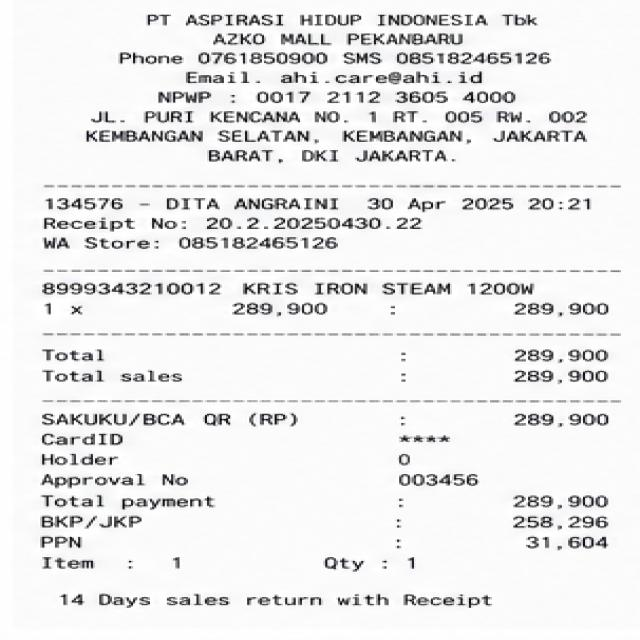date: (367, 191, 600, 214)
store: (125, 10, 543, 49)
total: (33, 344, 614, 370)
